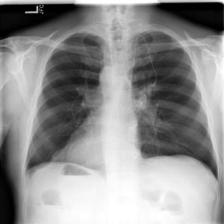normal: (22, 27, 219, 183)
